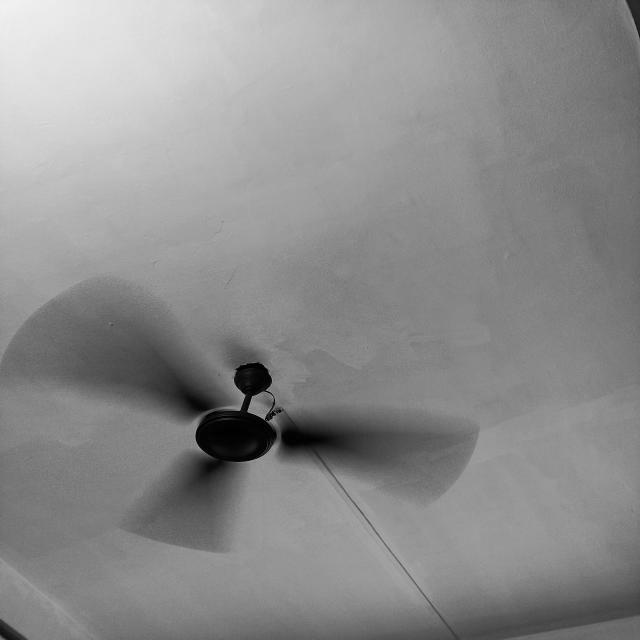fan: (0, 274, 480, 552)
light: (194, 361, 282, 462)
